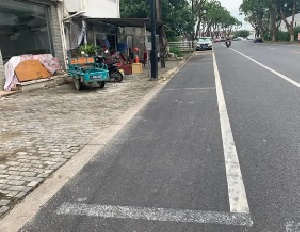slot_nocar: (44, 83, 258, 231), (155, 62, 225, 97), (184, 45, 219, 72)
